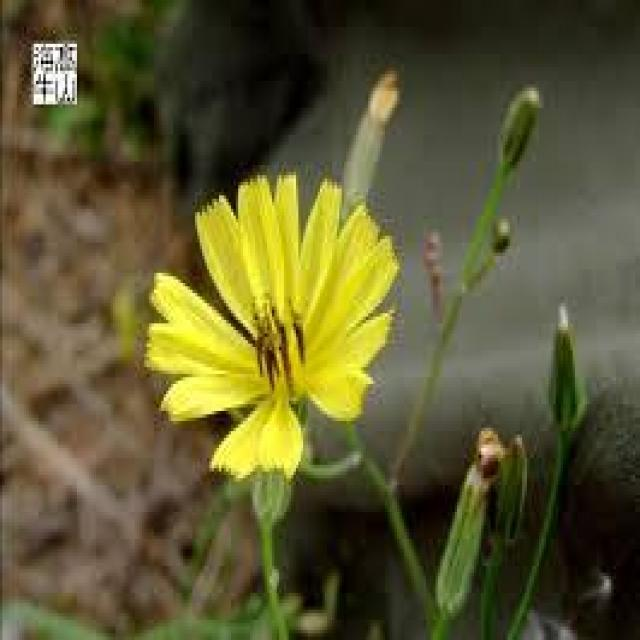organic waste: (155, 172, 401, 465)
